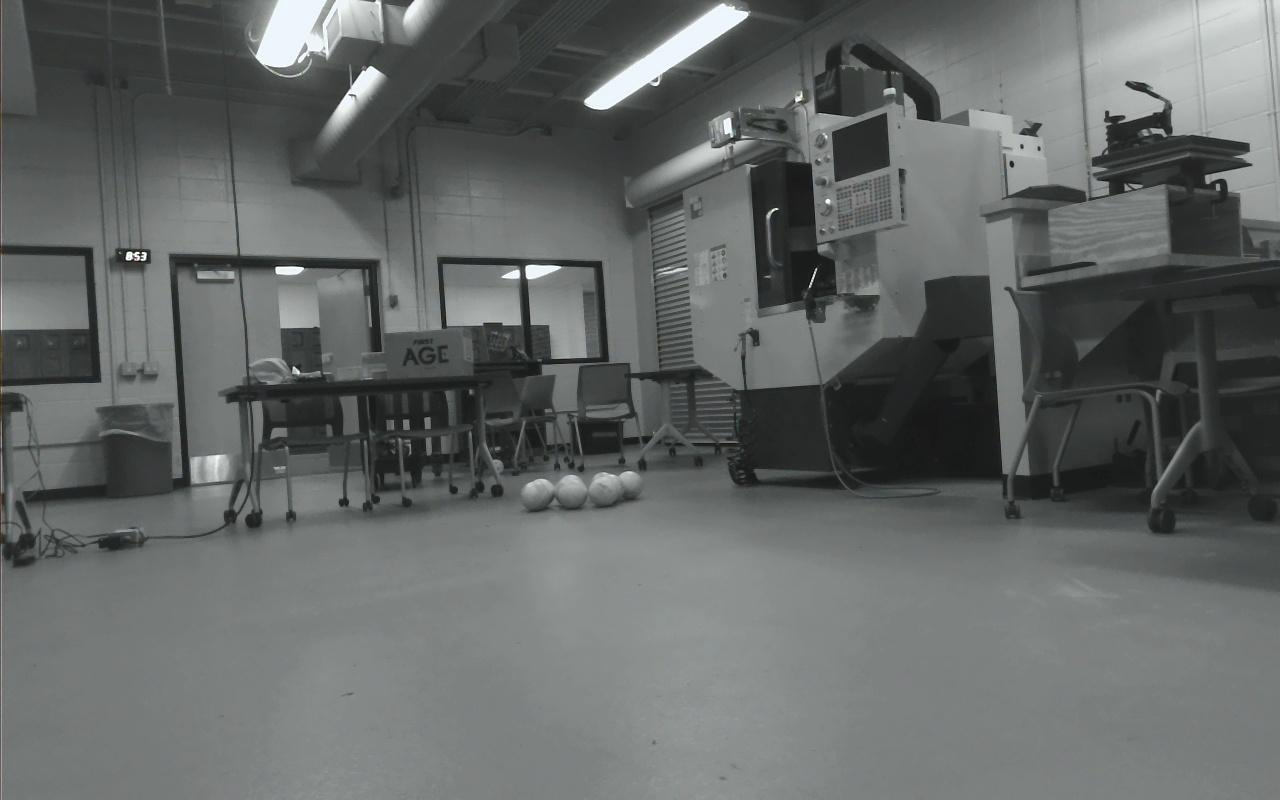Fuel: (555, 474, 585, 507), (520, 481, 549, 512), (588, 476, 617, 507), (554, 478, 585, 505), (617, 470, 643, 500), (529, 477, 555, 507), (559, 481, 587, 508), (598, 474, 624, 503), (589, 471, 615, 496)
